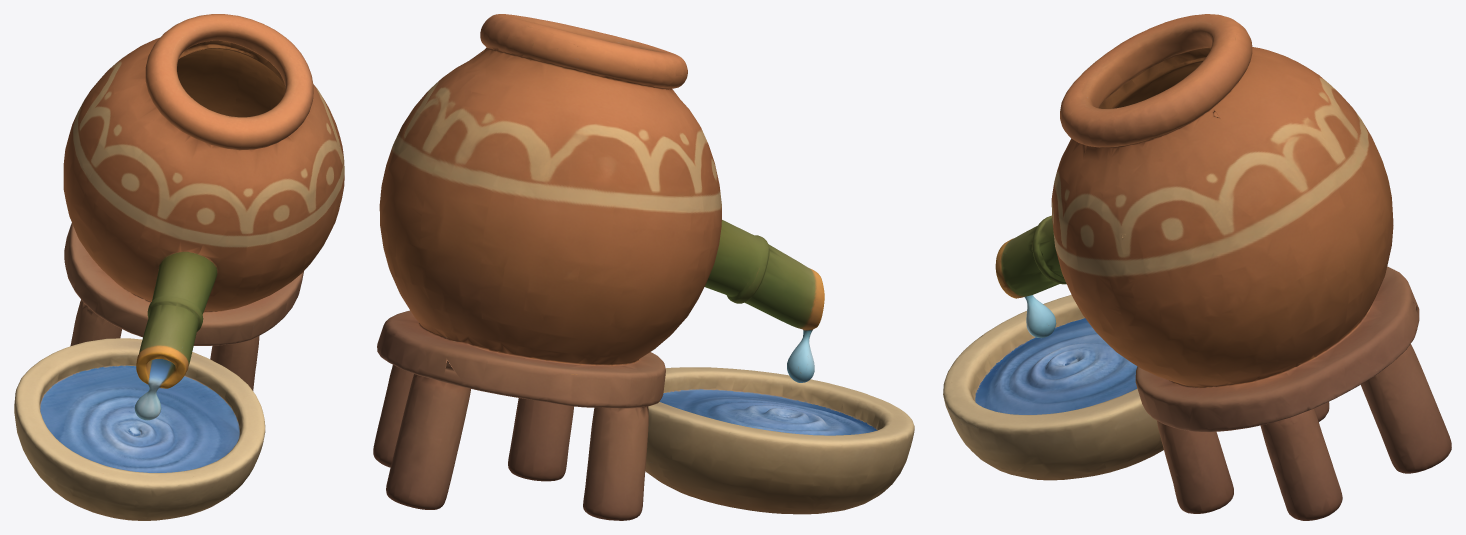
Rendered from water_purifier.glb.
The picture shows the model from 3 angles, left to right: view 1: azimuth 30°, elevation 25°; view 2: azimuth 150°, elevation 25°; view 3: azimuth 270°, elevation 25°; orthographic projection. The views are drawn at different scales.
Bounding box in the file's own units: 1.04 × 1.15 × 1.07.
Materials: 1 (1 with a texture image).
